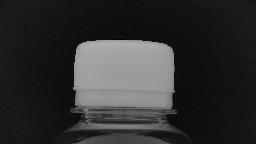Good Cap: (66, 36, 182, 120)
